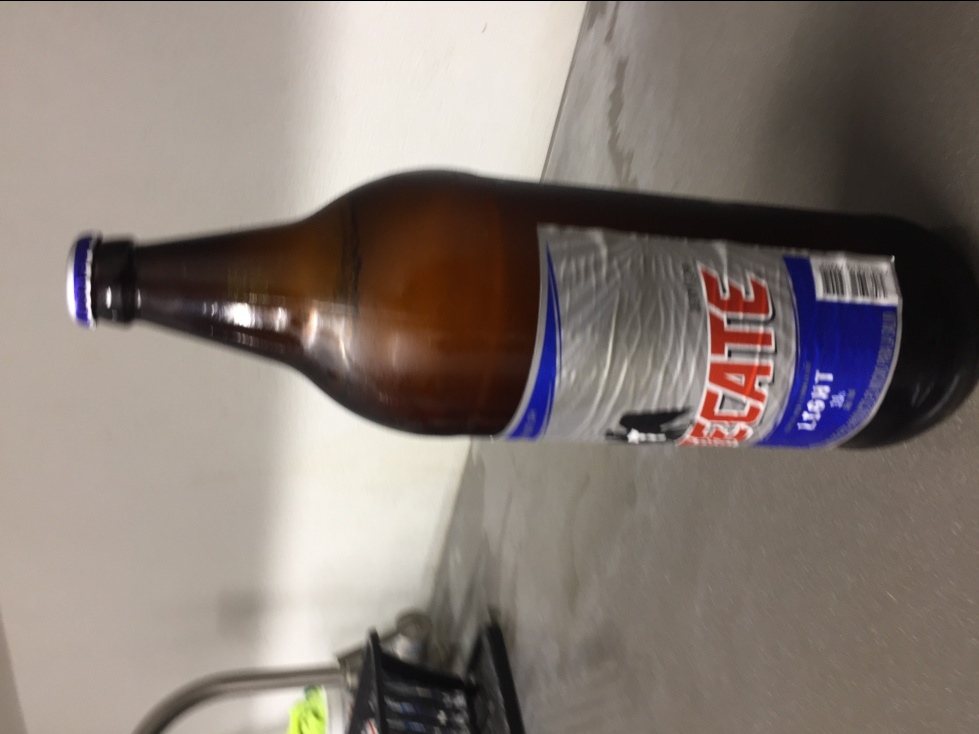tecateC: (60, 169, 979, 452)
